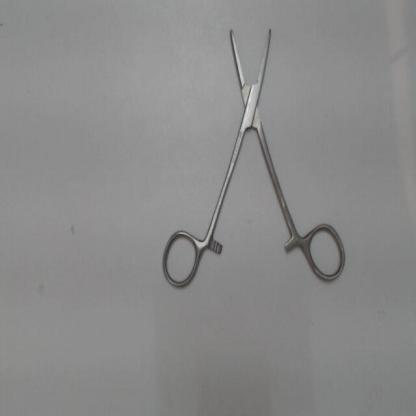Mayo Needle Holder: (154, 9, 350, 294)
